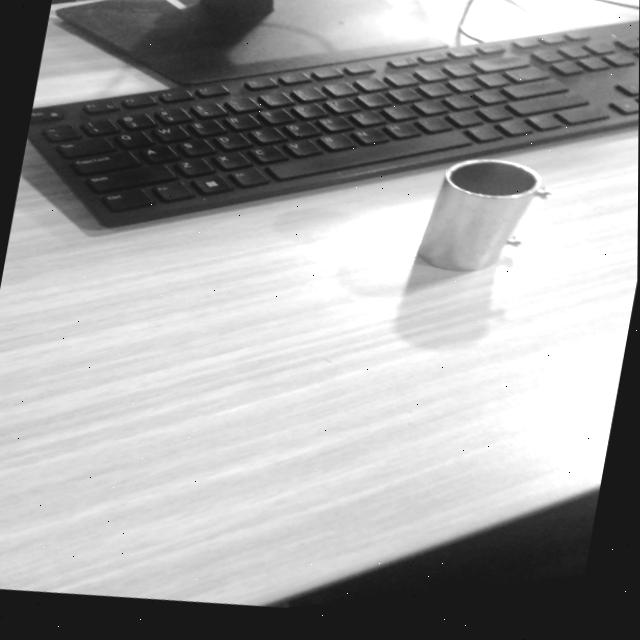Co_Lon: (411, 140, 554, 295)
